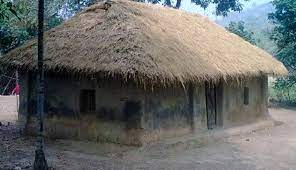Mud House: (11, 6, 280, 151)
